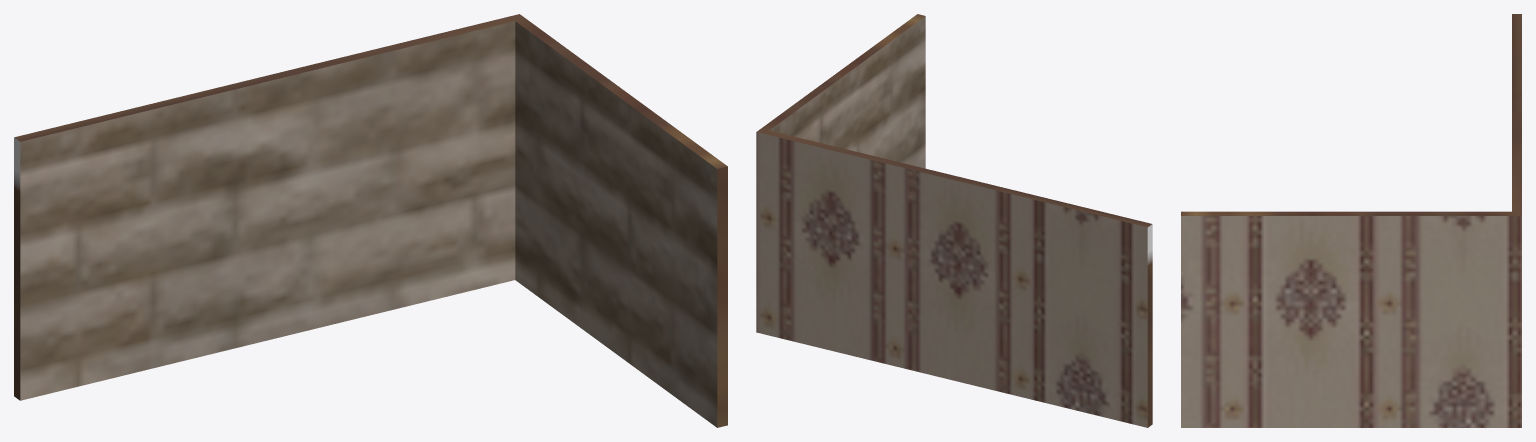
File: 0_wall_7.dae
The picture shows the model from 3 angles, left to right: view 1: azimuth 30°, elevation 25°; view 2: azimuth 150°, elevation 25°; view 3: azimuth 270°, elevation 25°; orthographic projection. The views are drawn at different scales.
Visible parts, largest first — view 1: Plane.003; view 2: Plane.003; view 3: Plane.003.
Part boxes in pixels (x1,y1,x2,y2): Plane.003: (14,14,727,427); Plane.003: (756,14,1152,427); Plane.003: (1181,14,1521,427).
Bounding box in the file's own units: 7.15 × 5.1 × 3.5.
Materials: 1 (1 with a texture image).
